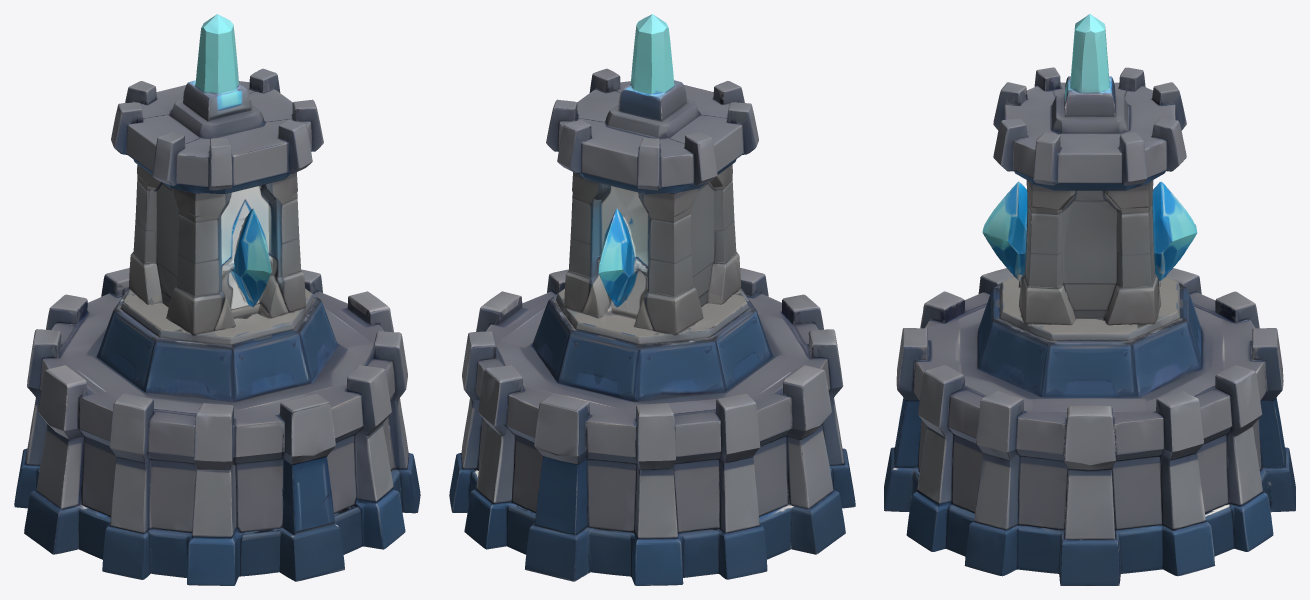
File: Protect Tower.glb
3 views of the same model, side by side, from view 1: azimuth 30°, elevation 25°; view 2: azimuth 150°, elevation 25°; view 3: azimuth 270°, elevation 25° (orthographic).
Visible parts, largest first — view 1: model; view 2: model; view 3: model.
Boxes of the visible parts, x1,y1,x2,y2 form: model: (14, 14, 420, 585); model: (449, 14, 855, 585); model: (884, 14, 1295, 585).
Size of the model in its own units: 1.46 by 1.9 by 1.46.
1 material, 1 textured.
